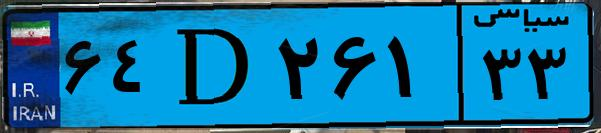1: (385, 28, 445, 110)
2: (270, 28, 330, 110)
3: (475, 38, 525, 113), (525, 38, 570, 115)
4: (110, 28, 158, 98)
6: (330, 28, 385, 110), (57, 26, 110, 100)
D: (158, 12, 270, 120)
